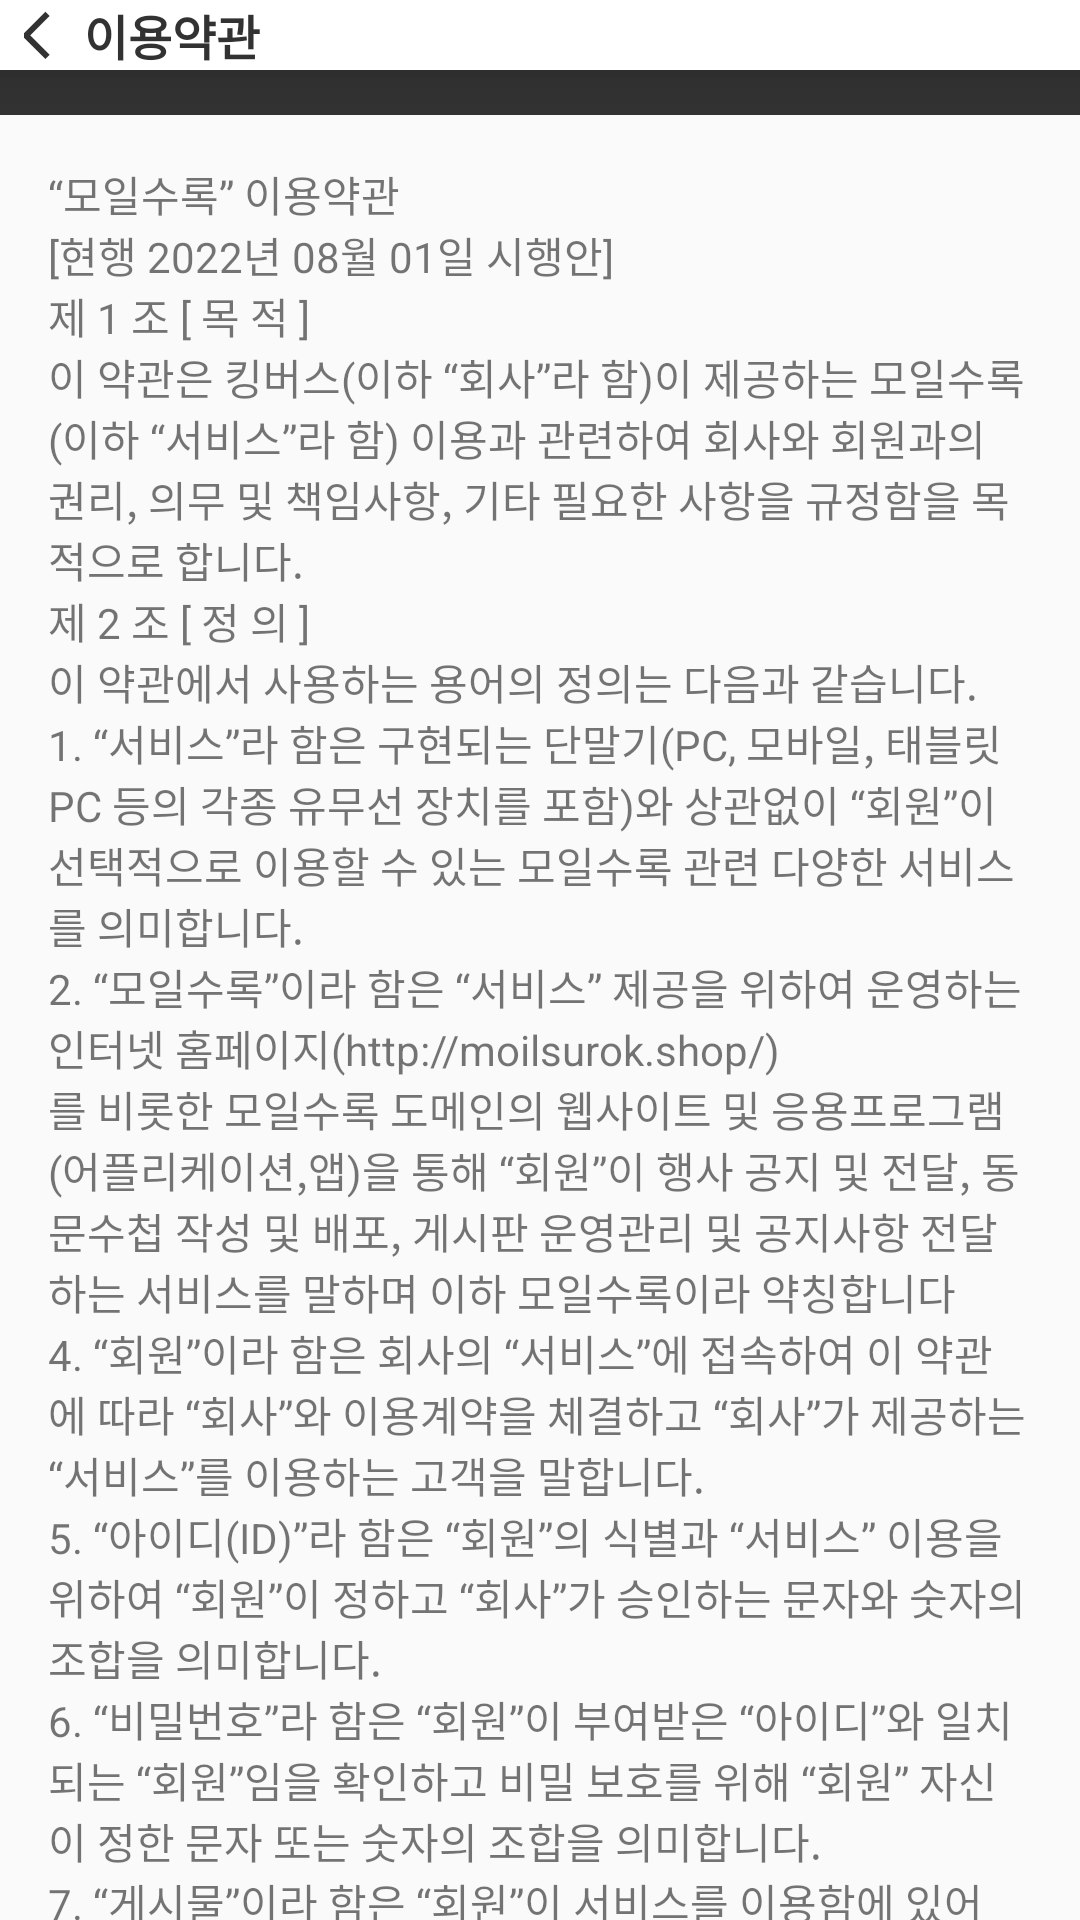

Locate icon controls on the screen. Image size 1080px x 1920px, boxes as (x1, y1, x2, y2).
back sharp: (24, 12, 50, 59)
